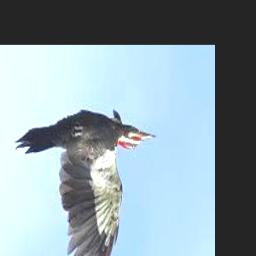Woodpecker: (15, 111, 157, 256)
